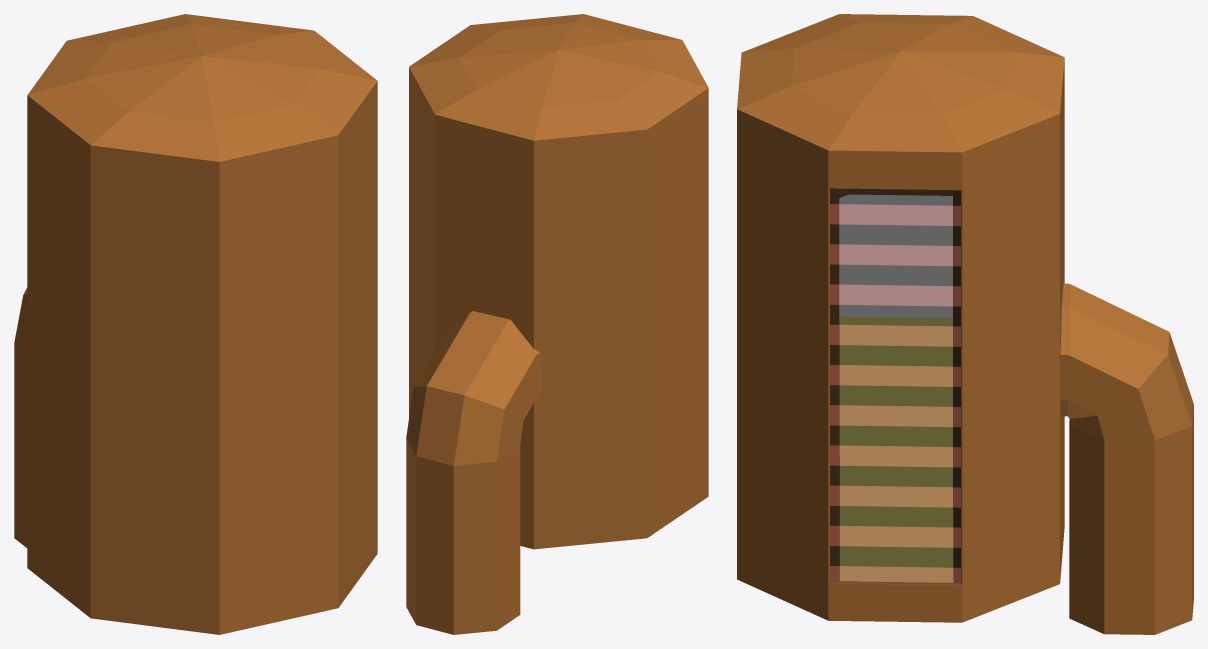
Rendered from VAT130.glb.
3 renders of one model, left to right at view 1: azimuth 30°, elevation 25°; view 2: azimuth 150°, elevation 25°; view 3: azimuth 270°, elevation 25°, orthographic. The views are drawn at different scales.
Parts seen in each view (by area): view 1: Cylinder, Cylinder.001; view 2: Cylinder, Cylinder.001; view 3: Cylinder, glass, liquidHeight, Cylinder.001.
Part boxes in pixels (<box>): Cylinder: <box>27,14,377,634</box>; Cylinder.001: <box>14,287,27,547</box>; Cylinder: <box>409,14,708,549</box>; Cylinder.001: <box>406,311,541,634</box>; Cylinder: <box>737,14,1064,622</box>; glass: <box>830,188,960,584</box>; liquidHeight: <box>839,194,952,582</box>; Cylinder.001: <box>1060,283,1193,634</box>.
Size of the model in its own units: 1.82 by 3.44 by 2.54.
Materials: 4 (1 with a texture image).
